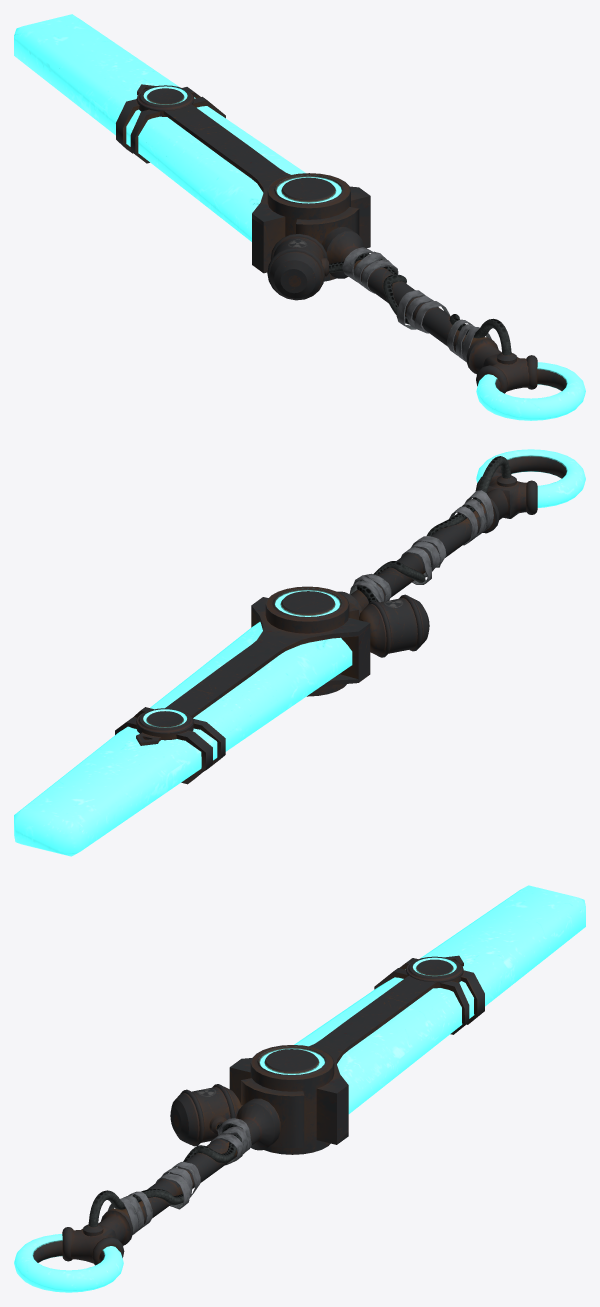
Rendered from ekkos_sword.glb.
3 renders of one model, top to bottom at view 1: azimuth 30°, elevation 25°; view 2: azimuth 150°, elevation 25°; view 3: azimuth 330°, elevation 25°, orthographic.
Visible parts, largest first — view 1: Blade_low; view 2: Blade_low; view 3: Blade_low.
Boxes of the visible parts, left/top/right/bottom form: Blade_low: left=14, top=14, right=585, bottom=420; Blade_low: left=14, top=449, right=585, bottom=856; Blade_low: left=14, top=885, right=585, bottom=1292.
Size of the model in its own units: 3.55 by 2.2 by 24.27.
1 material, 1 textured.
